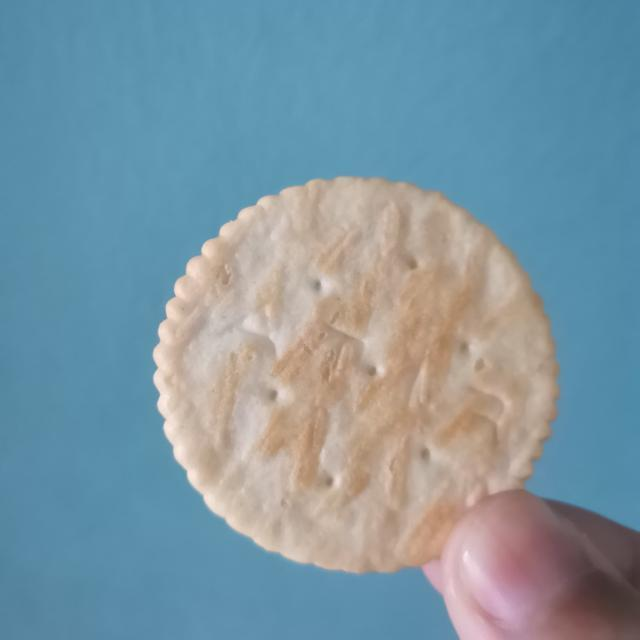Intact: (141, 161, 581, 581)
